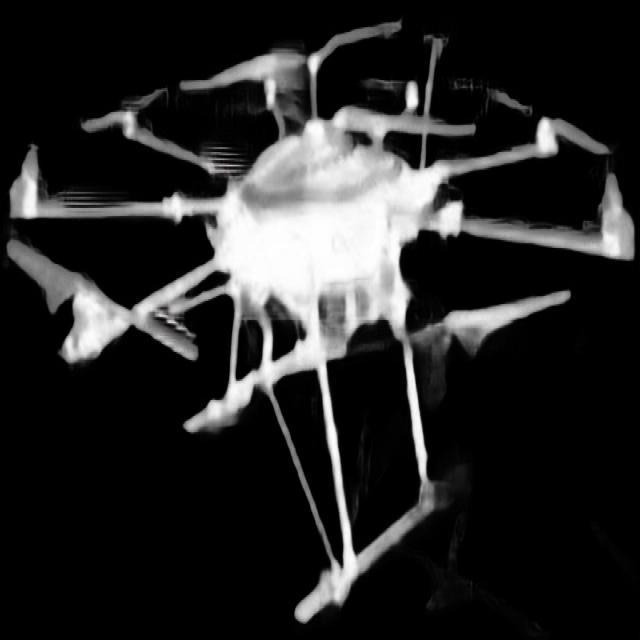drone: (2, 15, 640, 622)
